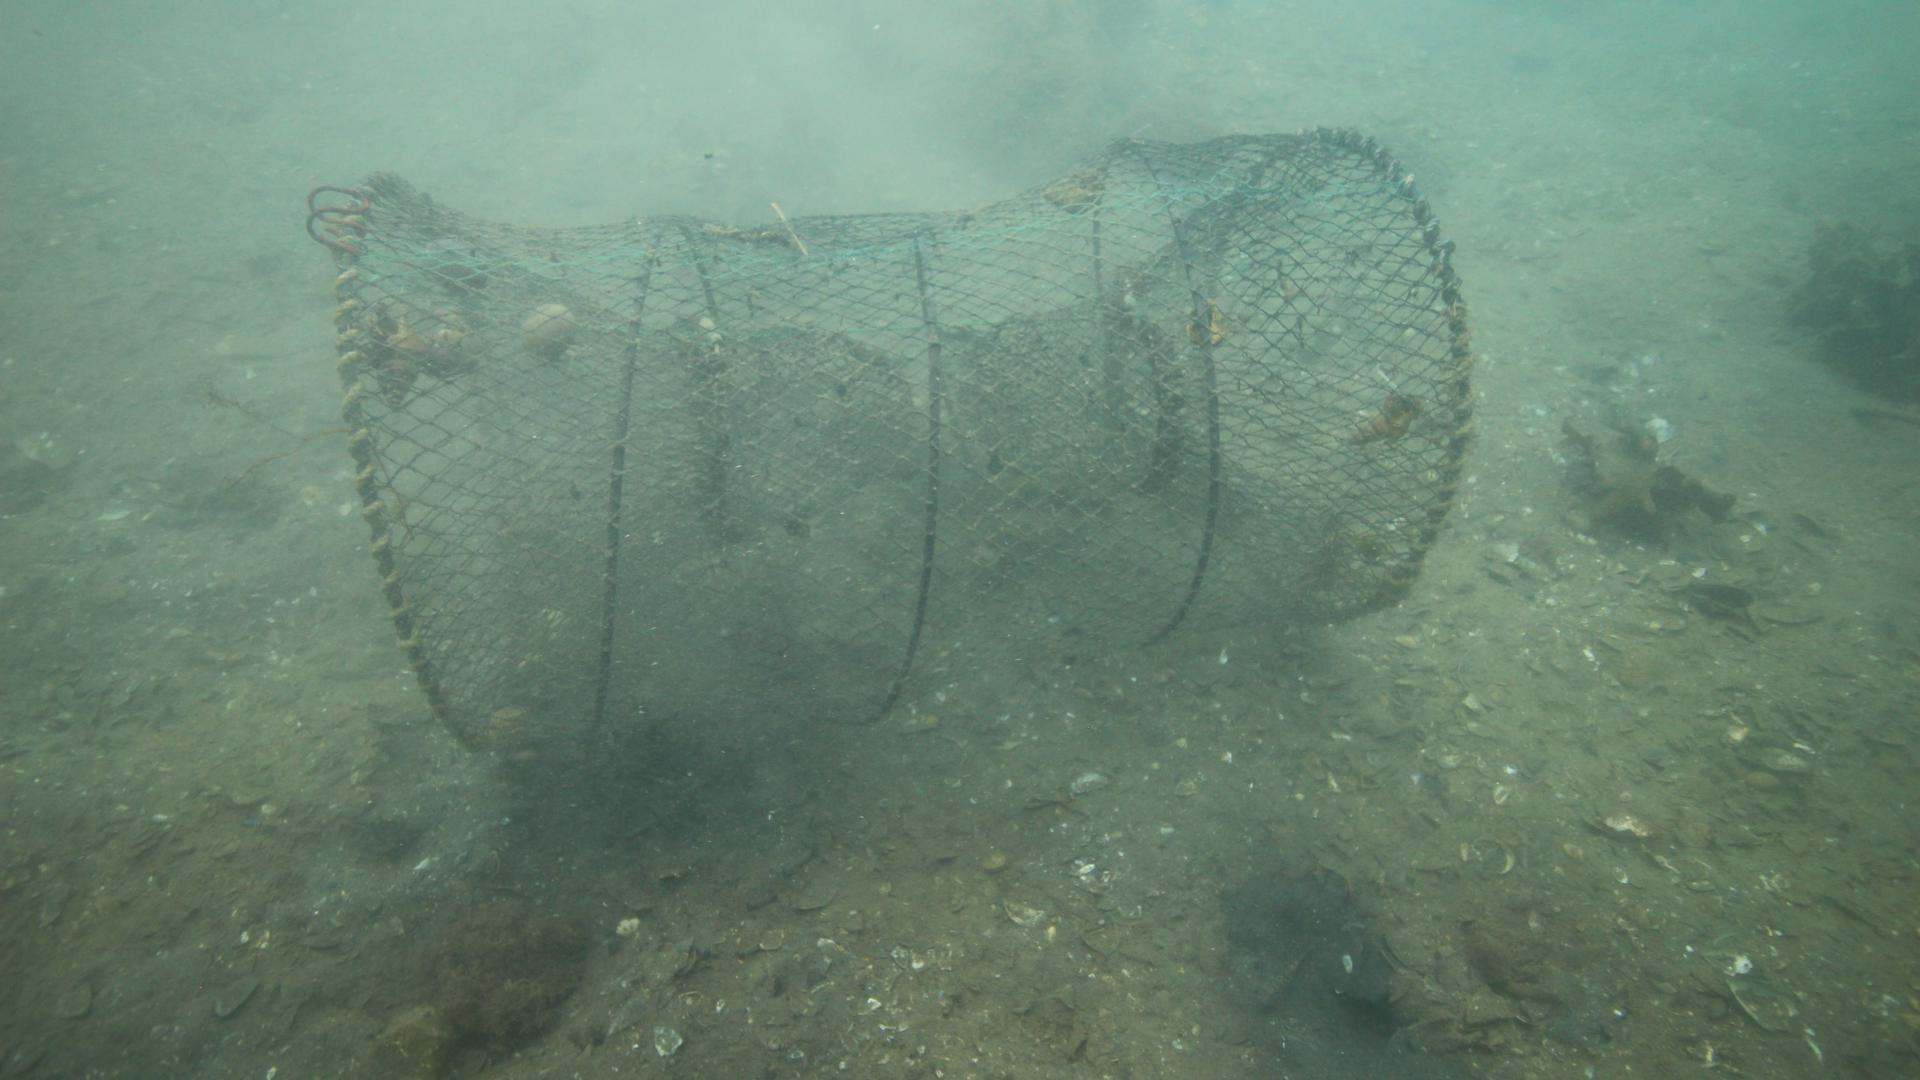spring fish trap: (336, 128, 1476, 764)
